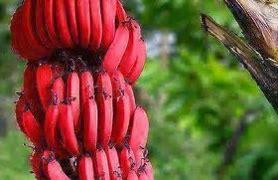banana: (8, 0, 164, 180)
